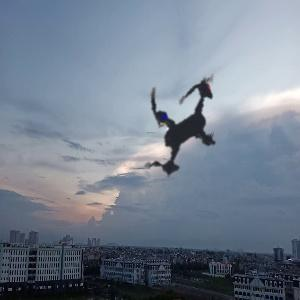drone: (84, 29, 286, 231)
